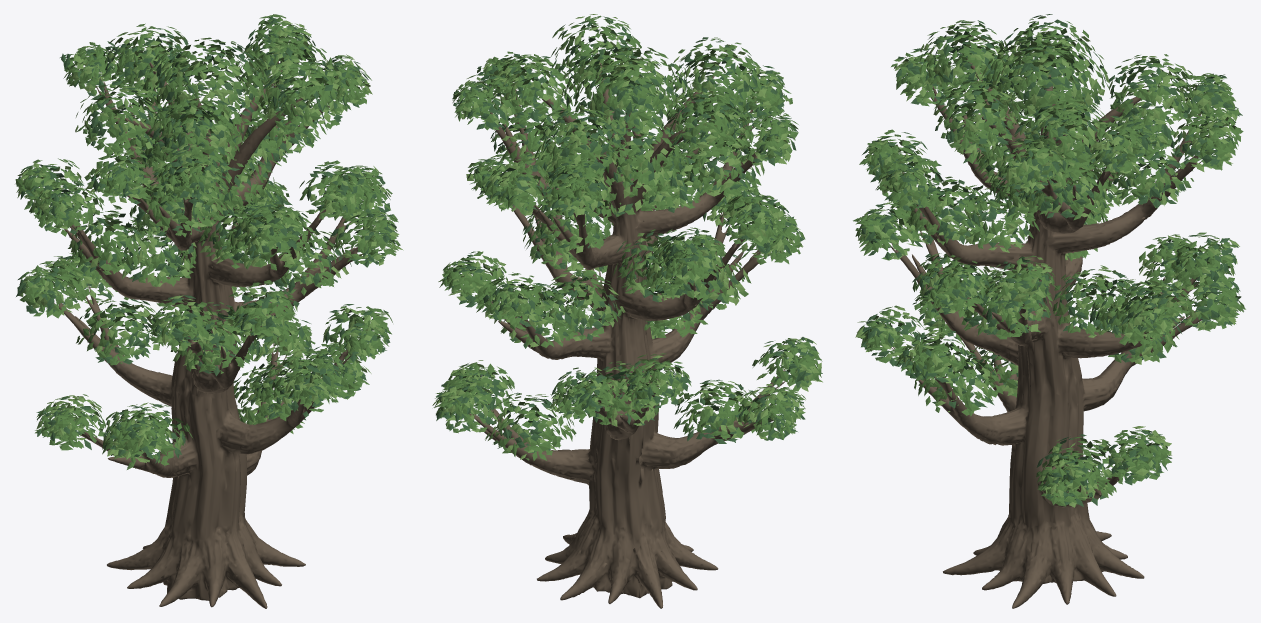
The model's file is WorldTree_Colossal.fbx.
3 renders of one model, left to right at view 1: azimuth 30°, elevation 25°; view 2: azimuth 150°, elevation 25°; view 3: azimuth 270°, elevation 25°, orthographic.
Visible parts, largest first — view 1: WorldTree_Colossal; view 2: WorldTree_Colossal; view 3: WorldTree_Colossal.
Boxes of the visible parts, bbox=[...] form: WorldTree_Colossal: bbox=[15, 14, 403, 608]; WorldTree_Colossal: bbox=[432, 14, 822, 608]; WorldTree_Colossal: bbox=[853, 14, 1245, 608].
Size of the model in its own units: 28 by 42 by 28.
